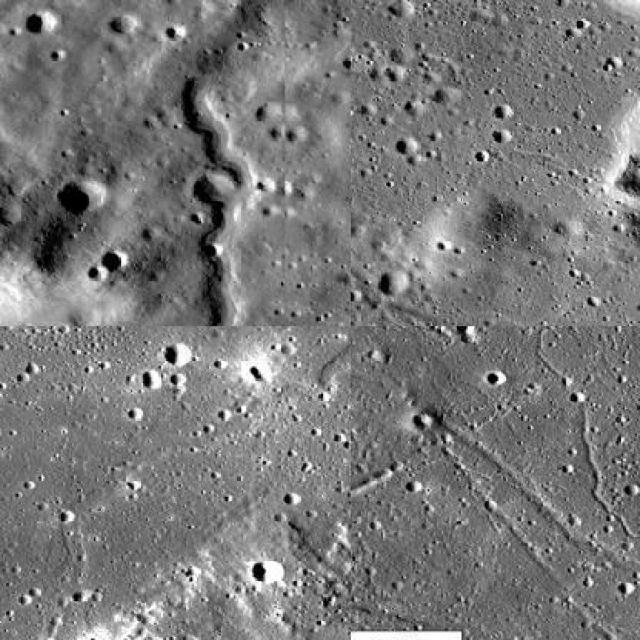rille: (58, 326, 350, 585), (351, 326, 638, 583), (351, 0, 491, 325), (436, 418, 638, 638), (443, 451, 639, 638), (175, 68, 274, 324)
